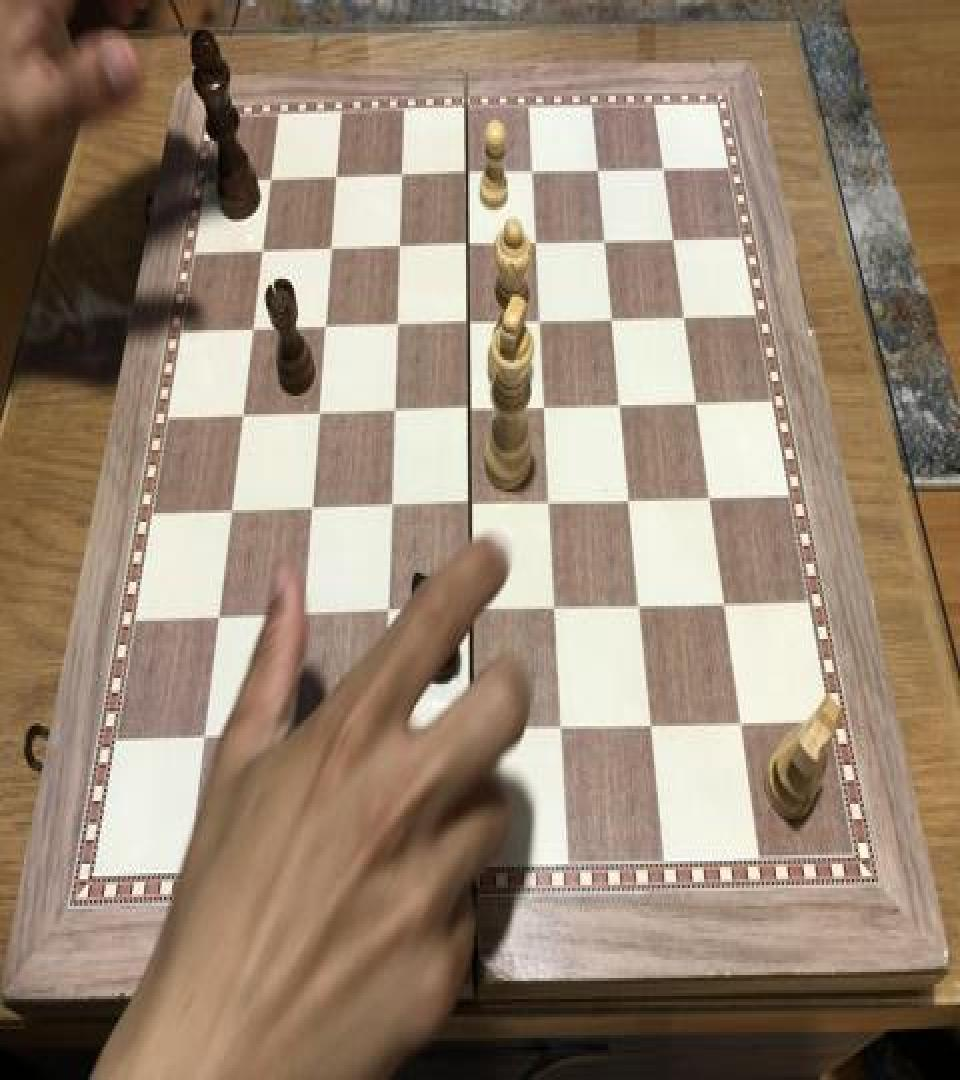xcorner: (711, 586, 735, 623), (373, 595, 397, 632), (458, 712, 482, 749), (192, 718, 216, 755), (651, 148, 675, 184), (585, 152, 609, 188), (520, 154, 544, 190), (454, 158, 478, 194), (389, 159, 413, 195), (325, 162, 349, 198), (260, 165, 284, 201), (661, 219, 685, 255), (592, 222, 616, 258), (523, 225, 547, 261), (455, 228, 479, 264), (387, 231, 411, 267), (319, 232, 343, 268), (251, 236, 275, 272), (671, 297, 695, 333), (599, 300, 623, 336), (527, 303, 551, 339), (455, 306, 479, 342), (384, 308, 408, 344), (313, 310, 337, 346), (242, 314, 266, 350), (683, 384, 707, 420), (607, 386, 631, 422), (531, 388, 555, 424), (456, 392, 480, 428), (381, 394, 405, 430), (306, 396, 330, 432), (231, 399, 255, 435), (696, 478, 720, 514), (616, 482, 640, 518), (536, 484, 560, 520), (456, 486, 480, 522), (377, 489, 401, 525), (298, 492, 322, 528), (220, 494, 244, 530), (626, 588, 650, 624), (541, 591, 565, 627), (457, 592, 481, 628), (290, 597, 314, 633), (207, 600, 231, 636), (727, 706, 751, 742), (637, 708, 661, 744), (547, 711, 571, 747), (369, 714, 393, 750), (280, 717, 304, 753)
